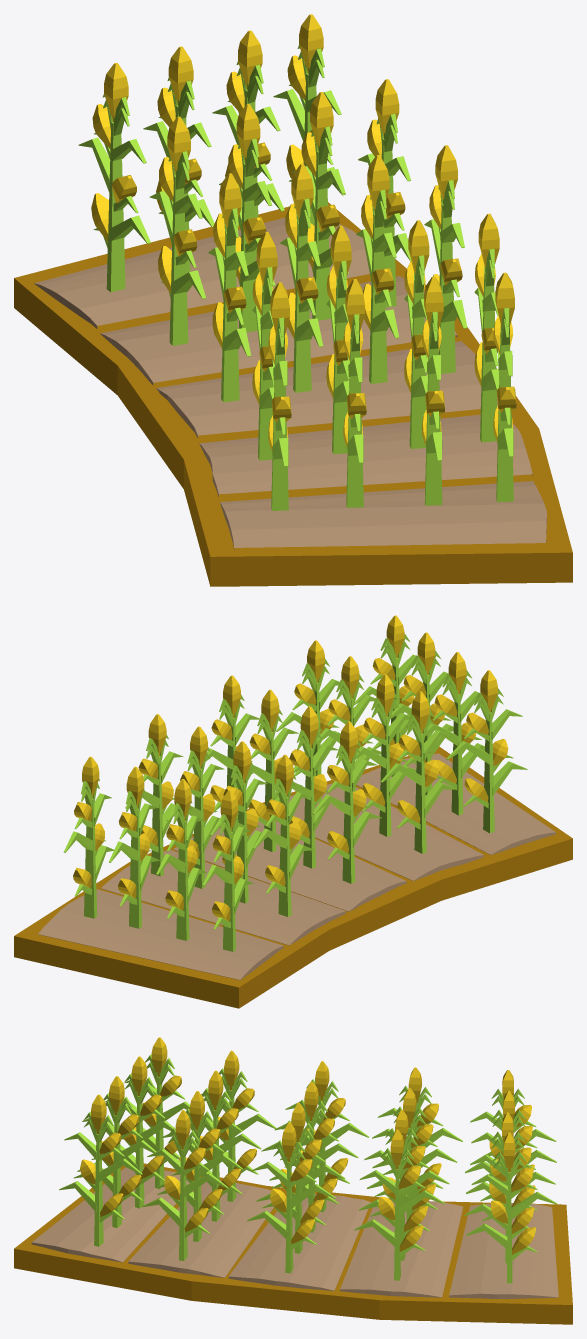
The model's file is middlecircle-planted.fbx.
The picture shows the model from 3 angles, top to bottom: view 1: azimuth 30°, elevation 25°; view 2: azimuth 150°, elevation 25°; view 3: azimuth 270°, elevation 25°; orthographic projection. The views are drawn at different scales.
Parts seen in each view (by area): view 1: Cylinder.117, Object_3.051; view 2: Object_3.051, Cylinder.117; view 3: Cylinder.117, Object_3.051.
Boxes of the visible parts, left/top/right/bottom form: Cylinder.117: left=14, top=202, right=572, bottom=586; Object_3.051: left=78, top=14, right=516, bottom=510; Object_3.051: left=64, top=615, right=527, bottom=951; Cylinder.117: left=14, top=746, right=572, bottom=1008; Cylinder.117: left=14, top=1163, right=572, bottom=1324; Object_3.051: left=59, top=1037, right=557, bottom=1283.
Size of the model in its own units: 1581 by 878 by 2580.
